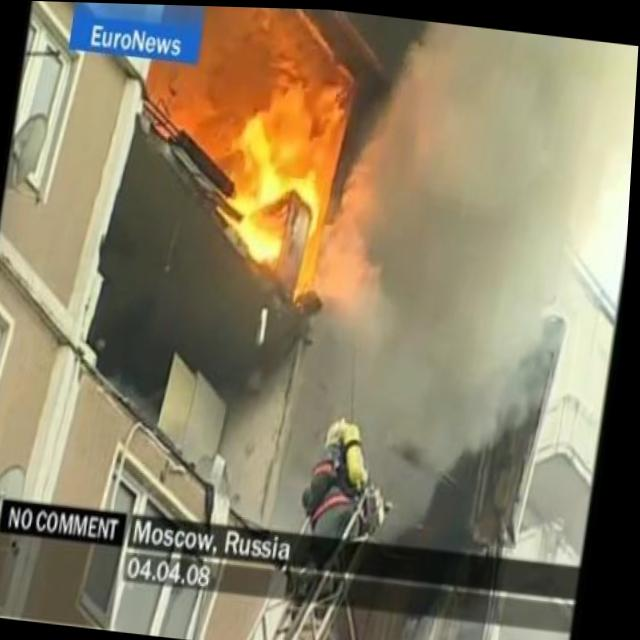fire: (208, 92, 344, 268)
